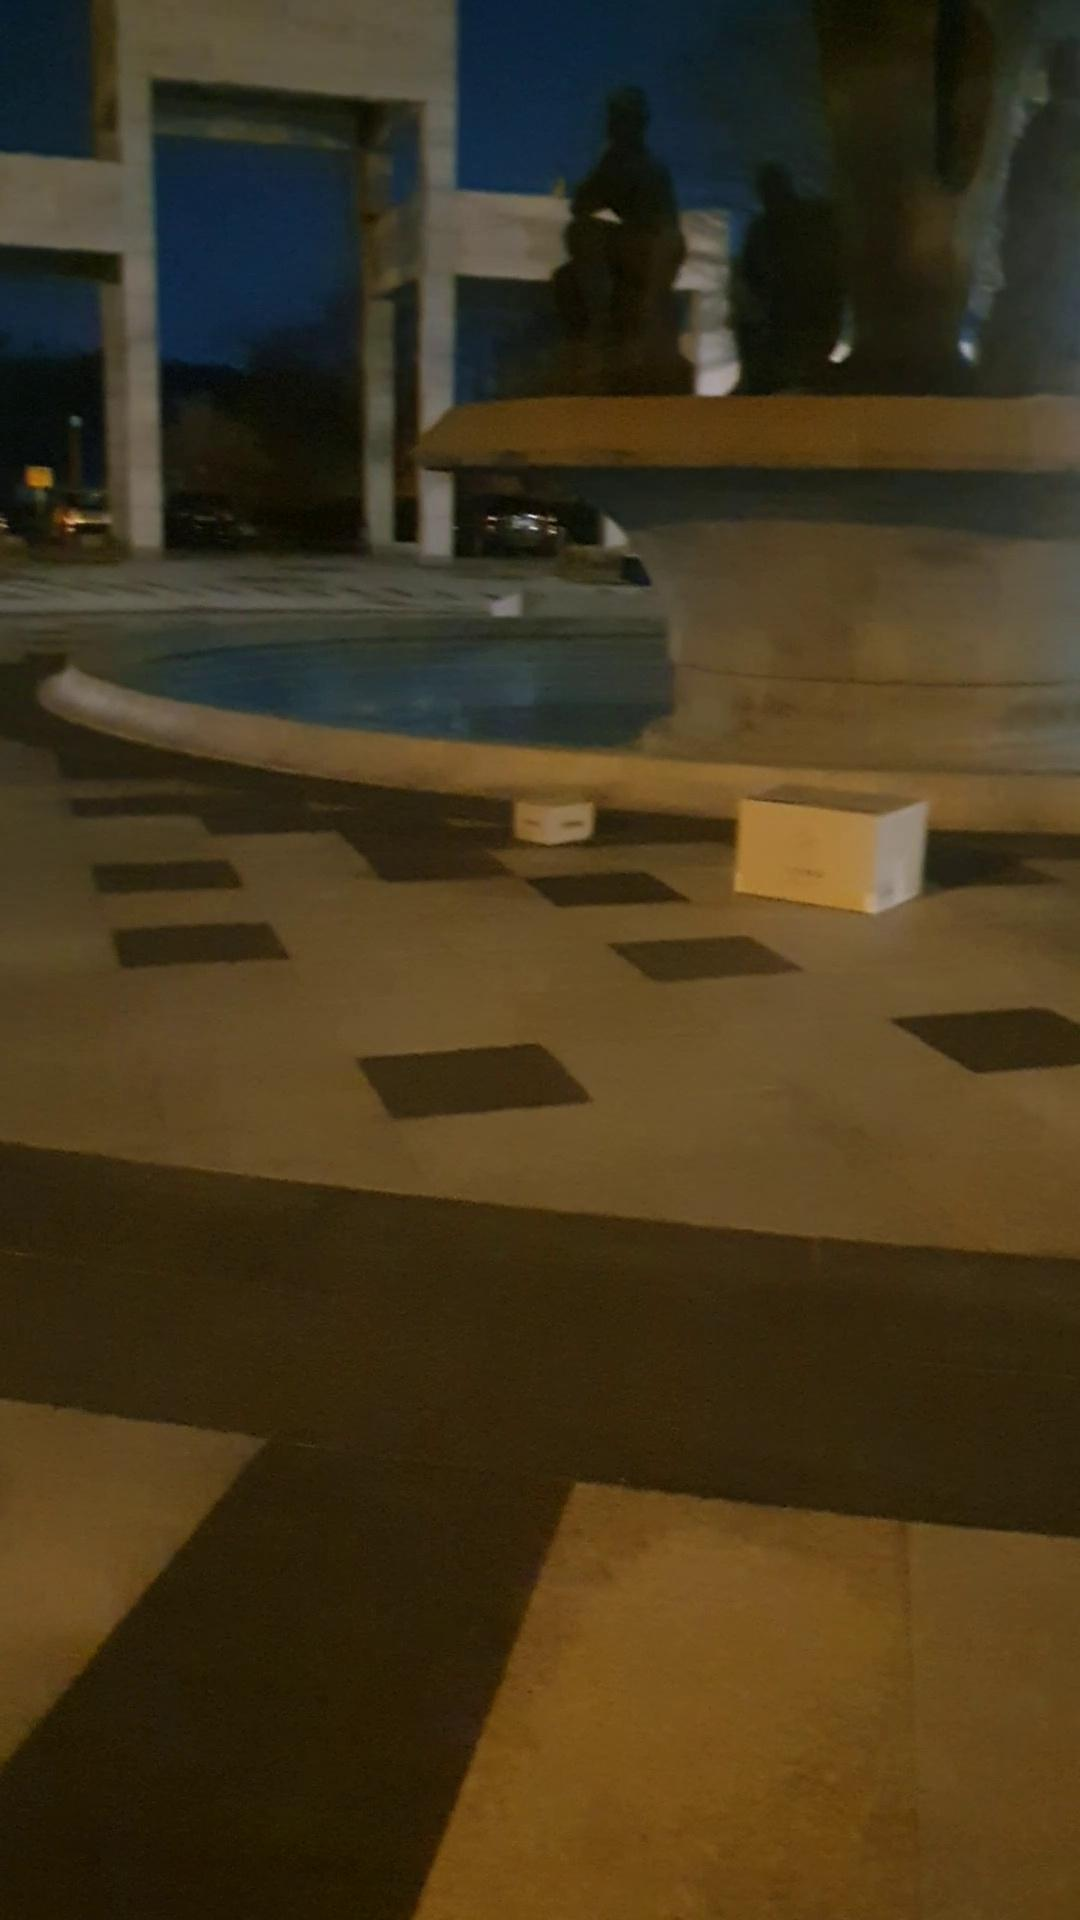Box: (717, 775, 947, 930), (488, 775, 611, 866)
